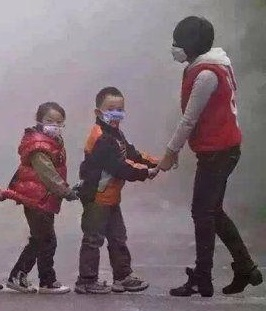person: (156, 15, 266, 299), (75, 87, 164, 295), (4, 100, 75, 295)
